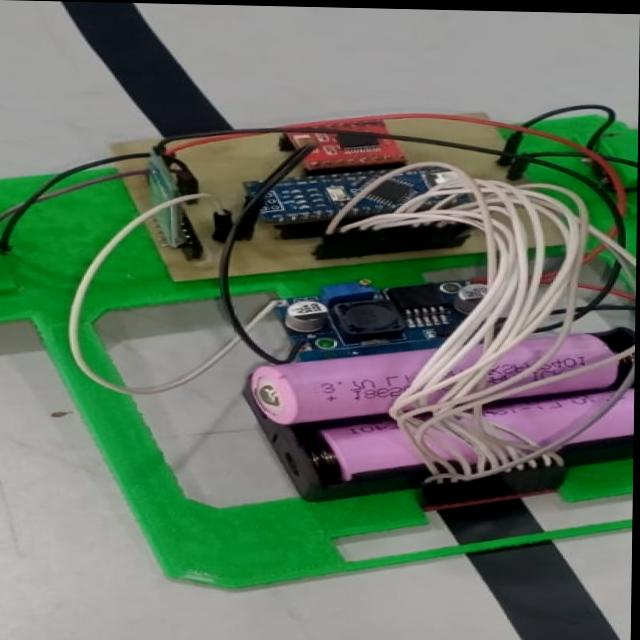vehicle: (0, 68, 639, 593)
